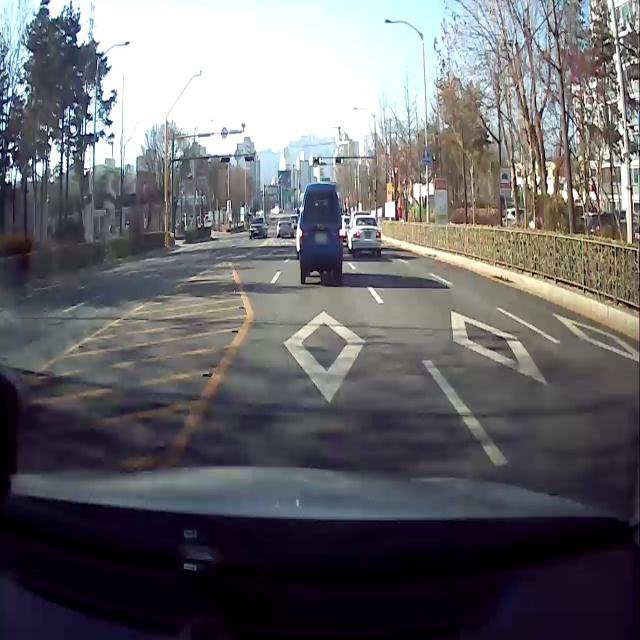Green Light: (340, 158, 344, 164), (319, 158, 322, 164)
